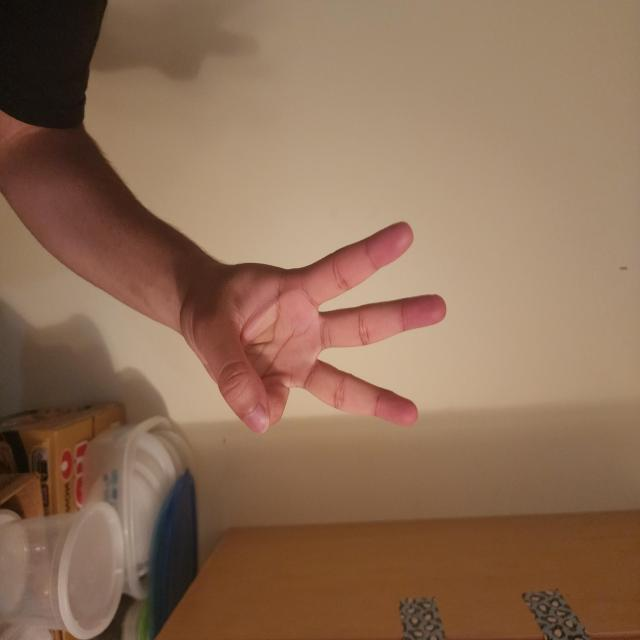W: (323, 253, 489, 614)
